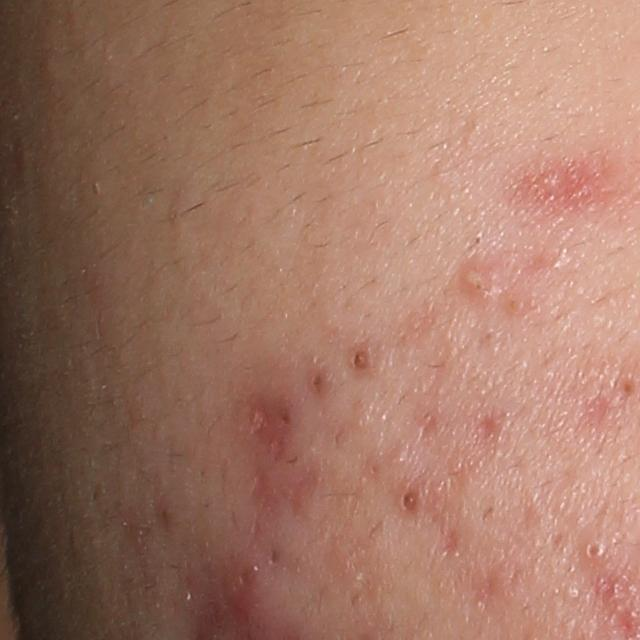atrophic_scar: (477, 406, 497, 448), (441, 526, 463, 555)
comedo: (396, 480, 426, 519), (581, 534, 612, 564), (348, 345, 374, 374), (304, 370, 327, 402)
pustule: (455, 257, 505, 305)
